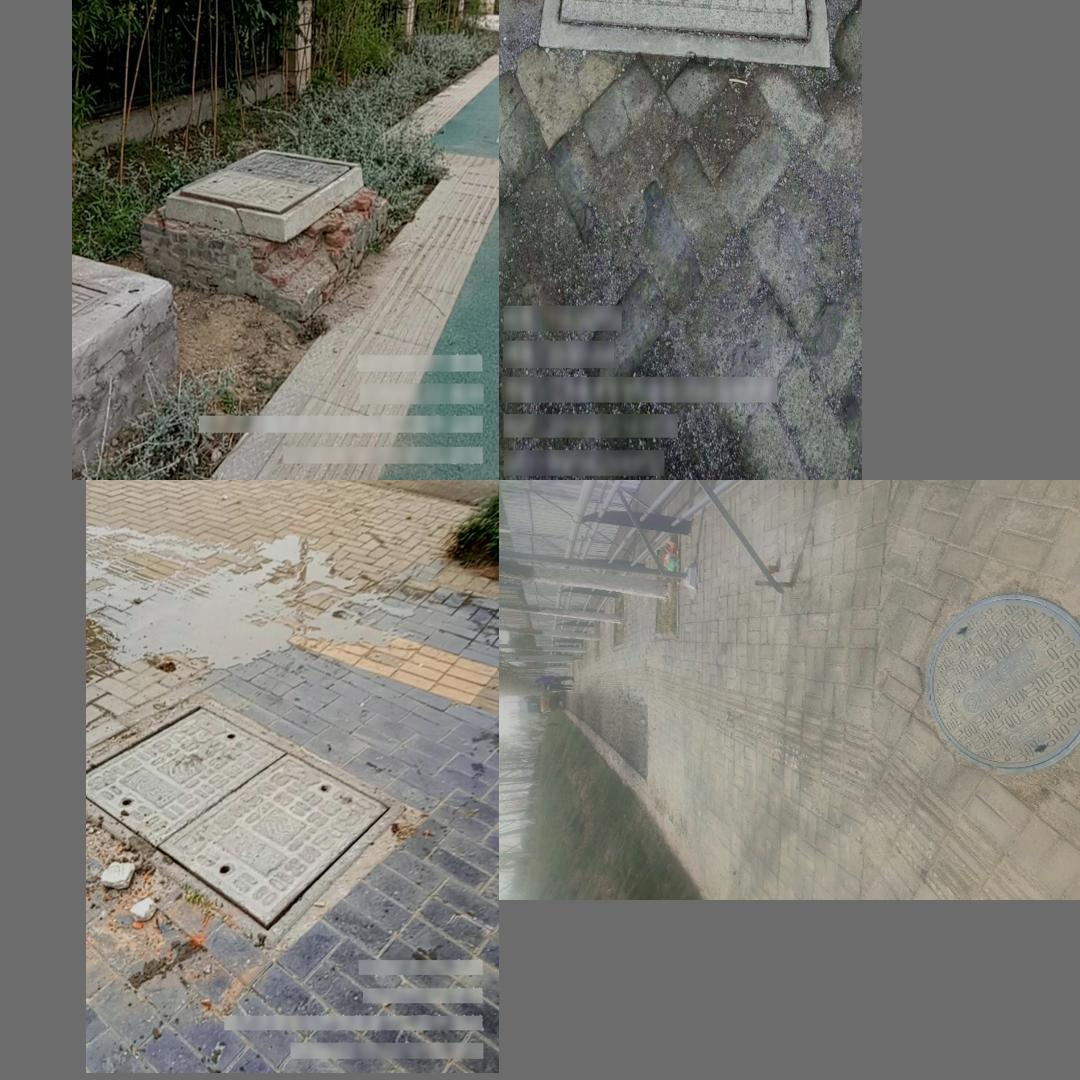good: (86, 691, 406, 948), (927, 593, 1080, 772), (538, 0, 829, 70), (168, 148, 359, 218)
